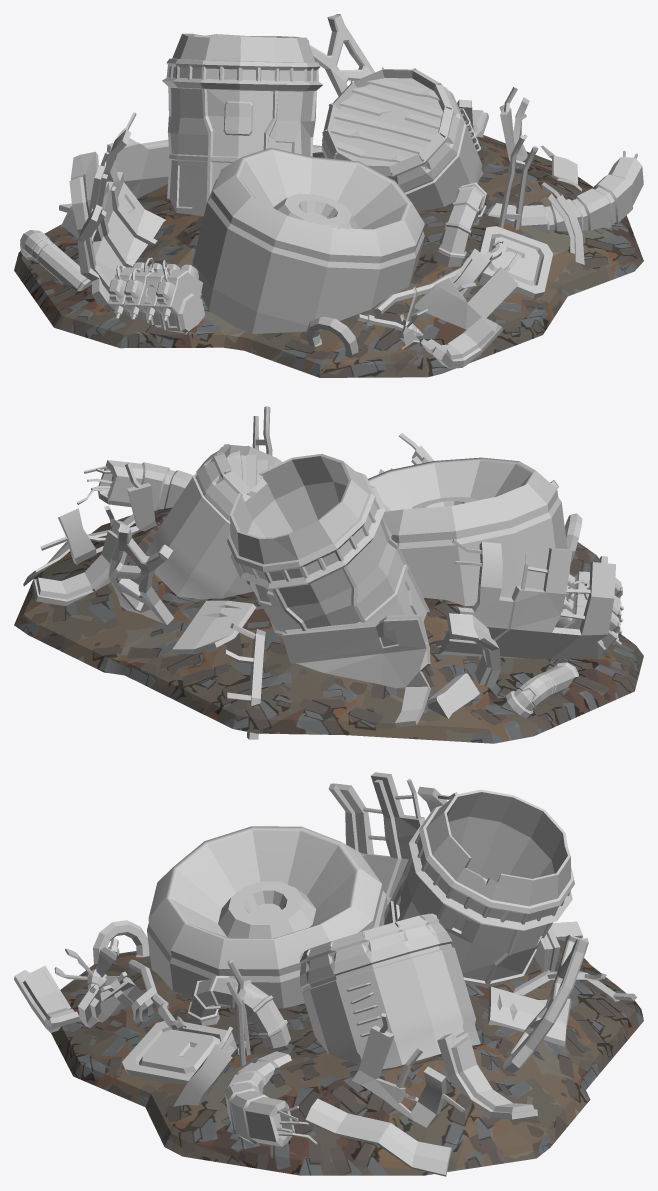
The model's file is SM_Prop_Scav_Scrap_Pile_01.fbx.
3 renders of one model, top to bottom at view 1: azimuth 30°, elevation 25°; view 2: azimuth 150°, elevation 25°; view 3: azimuth 270°, elevation 25°, orthographic. The views are drawn at different scales.
Parts seen in each view (by area): view 1: SM_Prop_Scav_Scrap_Pile_01; view 2: SM_Prop_Scav_Scrap_Pile_01; view 3: SM_Prop_Scav_Scrap_Pile_01.
Boxes of the visible parts, box(x1,y1,x2,y2) form: SM_Prop_Scav_Scrap_Pile_01: box(14, 14, 643, 377); SM_Prop_Scav_Scrap_Pile_01: box(14, 406, 643, 743); SM_Prop_Scav_Scrap_Pile_01: box(14, 772, 643, 1176).
Bounding box in the file's own units: 2692 × 986 × 2434.
